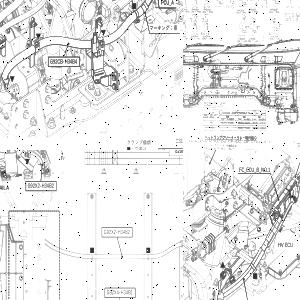PartNumber: (103, 228, 130, 236), (106, 289, 134, 296), (50, 58, 78, 64), (27, 182, 55, 188), (252, 121, 266, 124), (221, 121, 234, 124)
